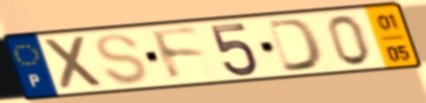0: (324, 12, 375, 68)
5: (205, 20, 261, 78)
D: (264, 17, 325, 74)
F: (147, 26, 208, 84)
S: (94, 32, 151, 87)
X: (41, 33, 108, 93)
